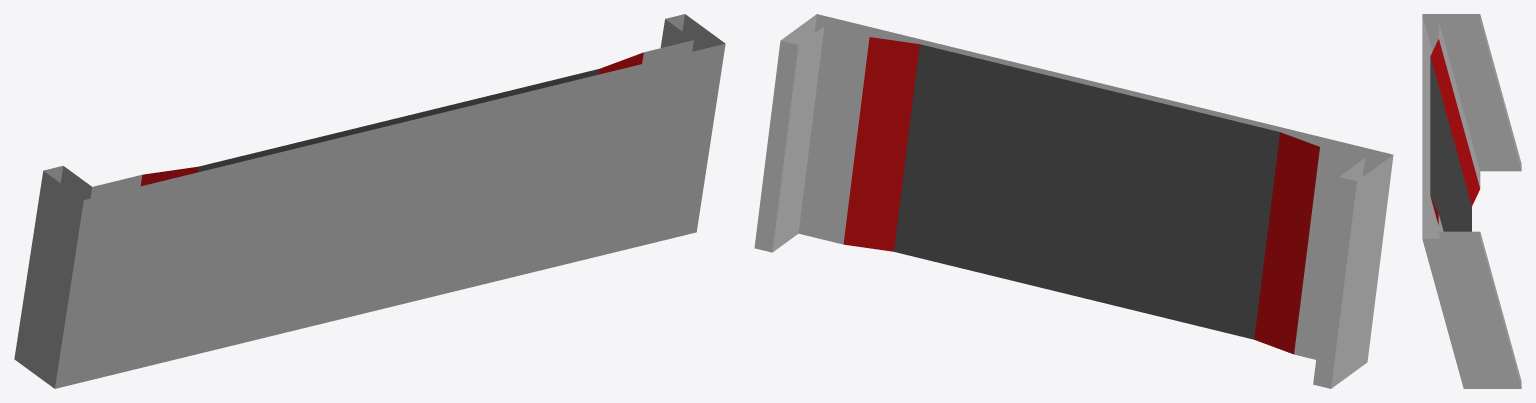
Rendered from Straight_Pitch1.fbx.
3 views of the same model, side by side, from view 1: azimuth 30°, elevation 25°; view 2: azimuth 150°, elevation 25°; view 3: azimuth 270°, elevation 25° (orthographic). The views are drawn at different scales.
Parts seen in each view (by area): view 1: Straight_Pitch1; view 2: Straight_Pitch1; view 3: Straight_Pitch1.
Part boxes in pixels (x1,y1,x2,y2): Straight_Pitch1: (14, 14, 725, 388); Straight_Pitch1: (754, 14, 1393, 388); Straight_Pitch1: (1422, 14, 1521, 388).
Bounding box in the file's own units: 1280 × 400 × 240.
